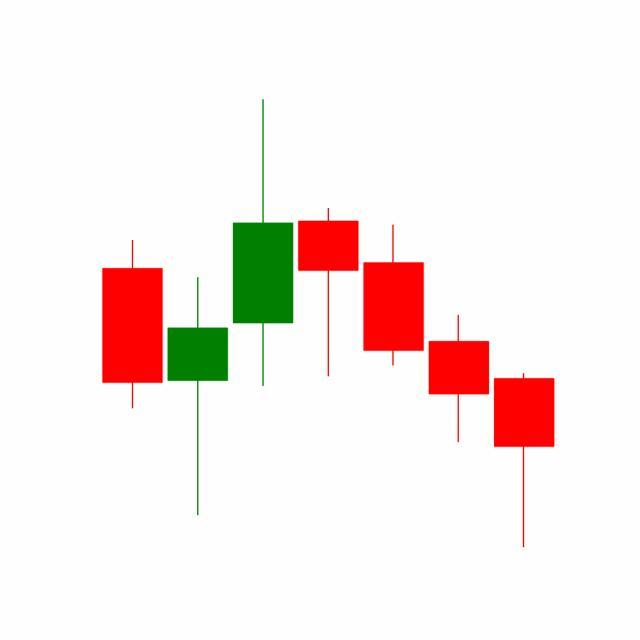Hikkake Pattern: (165, 99, 492, 521)
